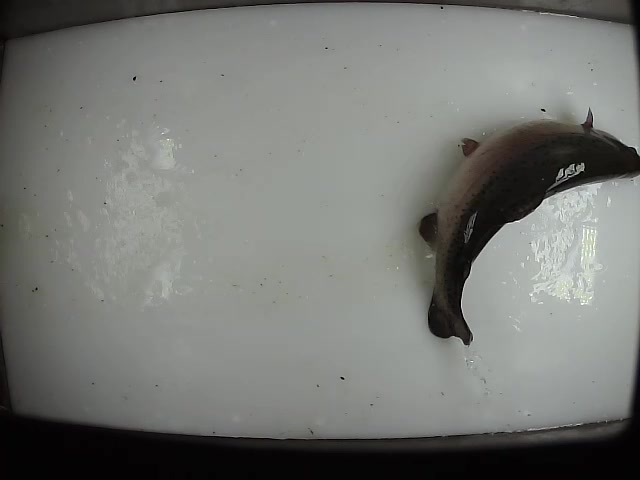Fish: (418, 105, 638, 347)
